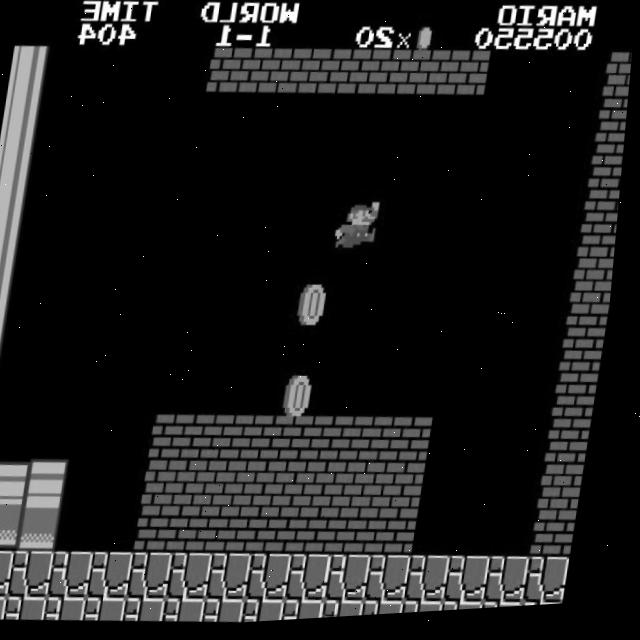1- brick_block: (206, 48, 254, 100), (387, 466, 435, 517), (341, 511, 389, 562), (246, 50, 294, 101), (182, 507, 230, 558), (149, 460, 197, 511), (195, 416, 243, 466), (155, 415, 203, 465), (445, 54, 492, 105), (381, 511, 428, 562), (405, 53, 452, 104), (348, 465, 395, 516), (366, 52, 413, 103), (308, 464, 355, 515), (302, 510, 349, 561), (326, 51, 373, 102), (268, 463, 315, 514), (262, 509, 309, 560), (286, 50, 333, 101), (229, 462, 276, 513), (222, 508, 269, 559), (189, 461, 236, 512), (143, 506, 190, 557), (394, 421, 441, 471), (354, 419, 401, 469), (315, 419, 362, 469), (275, 418, 322, 468), (235, 417, 282, 467), (566, 332, 612, 383), (560, 377, 606, 428), (541, 515, 587, 566), (553, 424, 599, 474), (547, 470, 593, 520), (573, 286, 618, 336), (579, 240, 621, 291), (585, 194, 624, 245), (591, 150, 627, 200), (597, 104, 631, 154), (603, 58, 634, 108)
11- little_mario: (338, 201, 387, 255)
14- pipe: (8, 43, 56, 94), (2, 89, 50, 139), (0, 136, 43, 186), (0, 457, 38, 508), (0, 181, 37, 232), (0, 502, 31, 553), (0, 226, 31, 277), (0, 272, 24, 322), (0, 317, 18, 368), (0, 363, 11, 414), (0, 409, 4, 459)
15- pipe_head: (30, 457, 78, 508), (24, 503, 71, 554)
17- undestructible_block: (493, 560, 541, 611), (454, 559, 502, 610), (414, 559, 462, 610), (136, 552, 184, 603), (96, 551, 144, 602), (57, 550, 105, 601), (17, 549, 65, 600), (375, 557, 422, 609), (335, 557, 382, 608), (295, 556, 342, 607), (256, 555, 303, 606), (216, 554, 263, 605), (176, 553, 223, 604), (534, 561, 580, 612), (0, 548, 25, 599), (212, 600, 257, 628), (172, 598, 217, 626), (93, 597, 138, 625), (14, 595, 59, 623), (133, 598, 177, 626), (54, 595, 98, 623), (252, 600, 297, 626), (292, 601, 337, 624), (331, 601, 376, 622), (371, 603, 415, 621), (411, 604, 455, 619), (0, 594, 19, 622), (451, 605, 495, 617), (491, 606, 535, 615), (532, 606, 574, 613)
2- coin: (294, 280, 341, 331), (281, 371, 328, 422)
